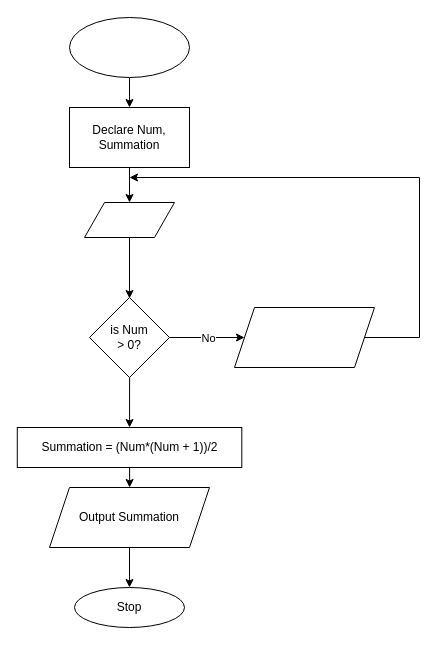
The diagram is 446 pixels wide and 645 high, and some of its shapes have lost their labels. The box of each missing label's shape, as (x1, y1, x2, y2) in pixels:
Input Num: (84, 202, 174, 238)
Output "Please Input a Positive Number": (234, 306, 374, 368)
Start: (68, 16, 190, 78)
